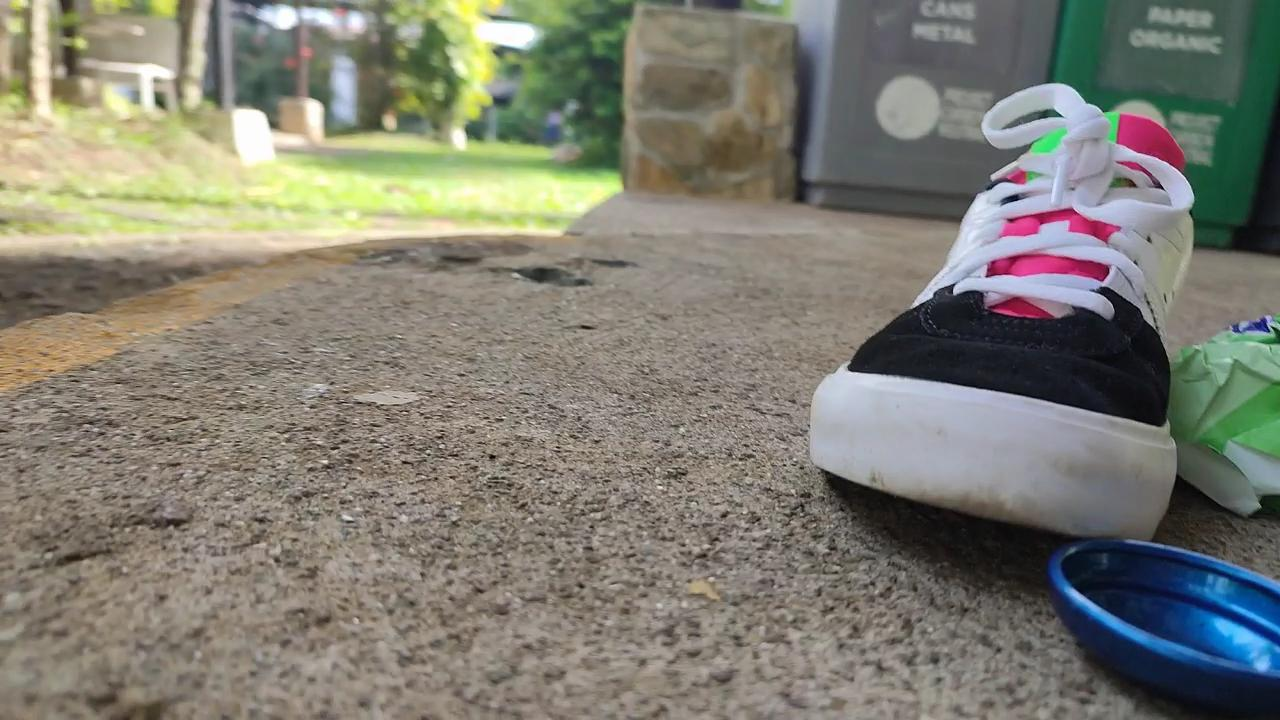Paper: (1166, 301, 1280, 518)
